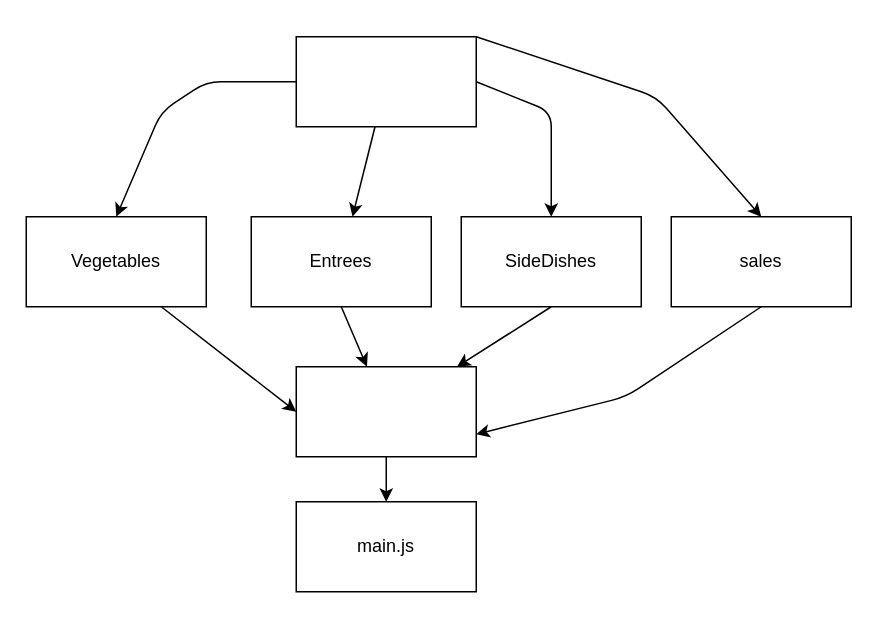
The diagram is 878 pixels wide and 618 high, and some of its shapes have lost their labels. The shapes that lost their labels are listed below. From the top down, each one's centre as x and y in pixels, then its label:
At [385,81]: "database.json".
At [385,411]: "FoodTruck".
